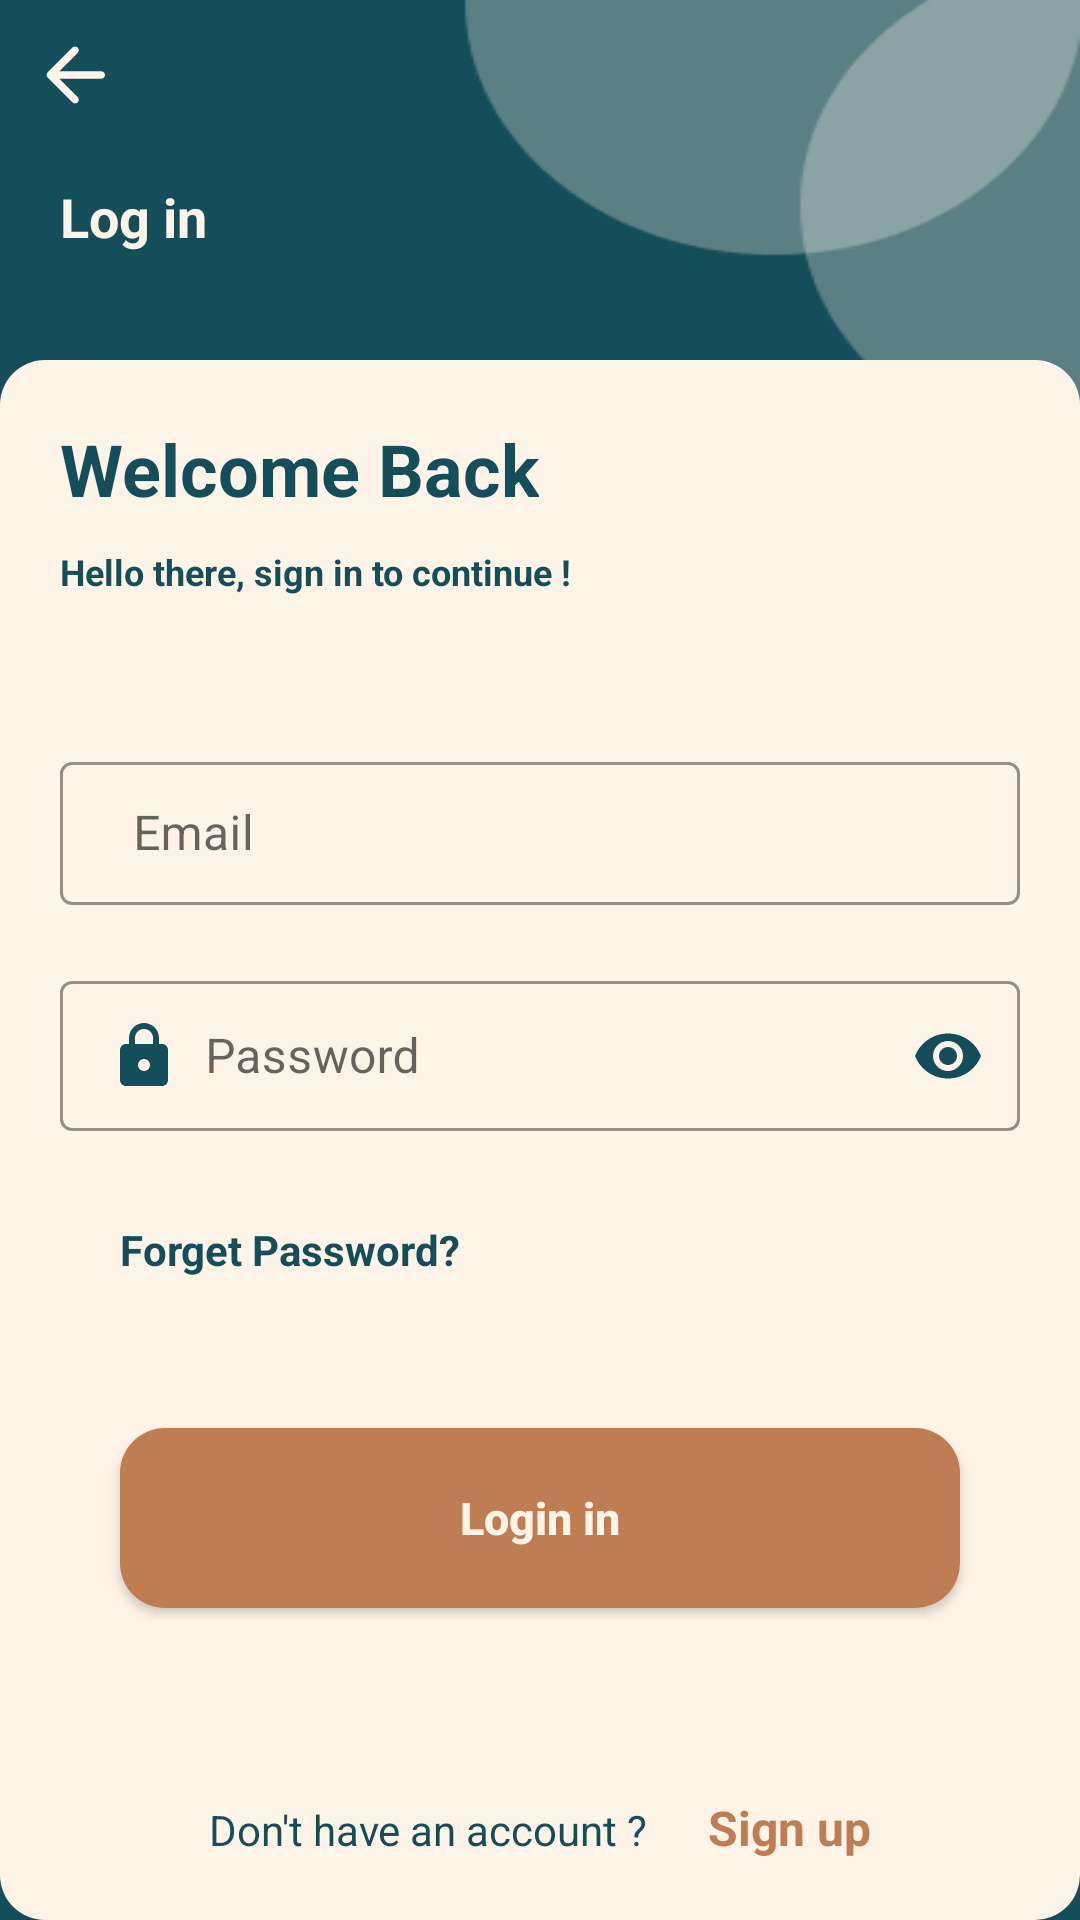

Screen size 1080*1920. Icon name, then its box in pixels as (x1, y1, x2, y2):
back: (46, 46, 105, 104)
